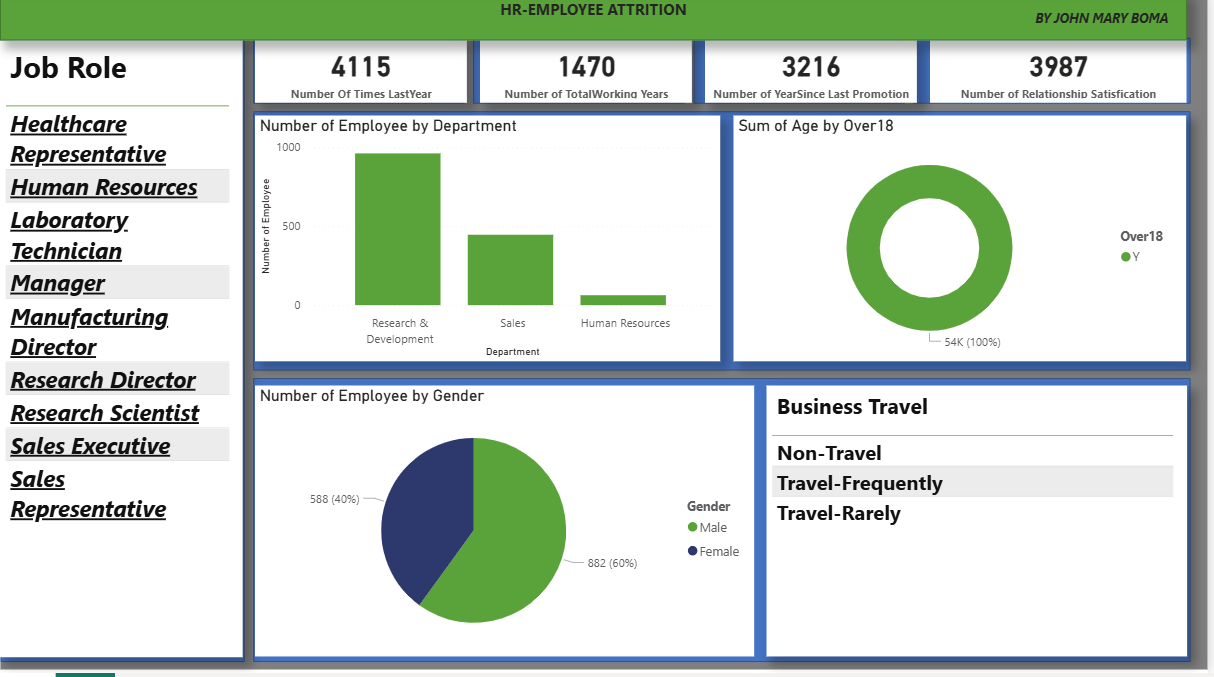

This screenshot's page, from the dashboard's own definition file:
{"tool":"powerbi","page":{"name":"Page 1","canvas":[1280,720],"ordinal":0},"visuals":[{"type":"tableEx","fields":{"Values":["WA_Fn-UseC_-HR-Employee-Attriti.Job Role"]},"box":[0,49.1,257,653.9],"z":0},{"type":"card","fields":{"Values":["Sum(WA_Fn-UseC_-HR-Employee-Attriti.Training Times LastYear)"]},"box":[270.2,49.1,224.9,66.1],"z":1000},{"type":"card","fields":{"Values":["CountNonNull(WA_Fn-UseC_-HR-Employee-Attriti.TotalWorking Years)"]},"box":[508.4,49.1,224.9,66.1],"z":2000},{"type":"card","fields":{"Values":["Sum(WA_Fn-UseC_-HR-Employee-Attriti.Years Since LastPromotion)"]},"box":[748.4,49.1,224.9,66.1],"z":3000},{"type":"card","fields":{"Values":["Sum(WA_Fn-UseC_-HR-Employee-Attriti.Relationship Satisfaction)"]},"box":[986.5,49.1,272.1,66.1],"z":4000},{"type":"tableEx","fields":{"Values":["WA_Fn-UseC_-HR-Employee-Attriti.Business Travel"]},"box":[812.6,415.8,446,287.2],"z":5000},{"type":"pieChart","fields":{"Category":["WA_Fn-UseC_-HR-Employee-Attriti.Gender"],"Y":["Sum(WA_Fn-UseC_-HR-Employee-Attriti.Employee Count)"]},"box":[270.2,415.8,529.1,287.2],"z":6000},{"type":"clusteredColumnChart","fields":{"Y":["Sum(WA_Fn-UseC_-HR-Employee-Attriti.Employee Count)"],"Category":["WA_Fn-UseC_-HR-Employee-Attriti.Department"]},"box":[270.2,128.5,493.2,260.8],"z":7000},{"type":"donutChart","fields":{"Y":["Sum(WA_Fn-UseC_-HR-Employee-Attriti.Age)"],"Category":["WA_Fn-UseC_-HR-Employee-Attriti.Over18"]},"box":[778.6,128.5,480,260.8],"z":8000},{"type":"shape","box":[0,0,1258.6,49.1],"z":9000},{"type":"textbox","box":[0,0,1258.6,49.1],"z":10000},{"type":"textbox","box":[1068.9,11.1,175,38.2],"z":11000}]}

Visuals, with their boxes in screenshot pixels (x1, y1, x2, y2), scaled from the page's 1280x720 canvas onto the 1214x677 screenshot:
tableEx - WA_Fn-UseC_-HR-Employee-Attriti.Job Role: bbox(0, 46, 244, 661)
card - Sum(WA_Fn-UseC_-HR-Employee-Attriti.Training Times LastYear): bbox(256, 46, 470, 108)
card - CountNonNull(WA_Fn-UseC_-HR-Employee-Attriti.TotalWorking Years): bbox(482, 46, 695, 108)
card - Sum(WA_Fn-UseC_-HR-Employee-Attriti.Years Since LastPromotion): bbox(710, 46, 923, 108)
card - Sum(WA_Fn-UseC_-HR-Employee-Attriti.Relationship Satisfaction): bbox(936, 46, 1194, 108)
tableEx - WA_Fn-UseC_-HR-Employee-Attriti.Business Travel: bbox(771, 391, 1194, 661)
pieChart - WA_Fn-UseC_-HR-Employee-Attriti.Gender x Sum(WA_Fn-UseC_-HR-Employee-Attriti.Employee Count): bbox(256, 391, 758, 661)
clusteredColumnChart - Sum(WA_Fn-UseC_-HR-Employee-Attriti.Employee Count) x WA_Fn-UseC_-HR-Employee-Attriti.Department: bbox(256, 121, 724, 366)
donutChart - Sum(WA_Fn-UseC_-HR-Employee-Attriti.Age) x WA_Fn-UseC_-HR-Employee-Attriti.Over18: bbox(738, 121, 1194, 366)
shape: bbox(0, 0, 1194, 46)
textbox: bbox(0, 0, 1194, 46)
textbox: bbox(1014, 10, 1180, 46)
